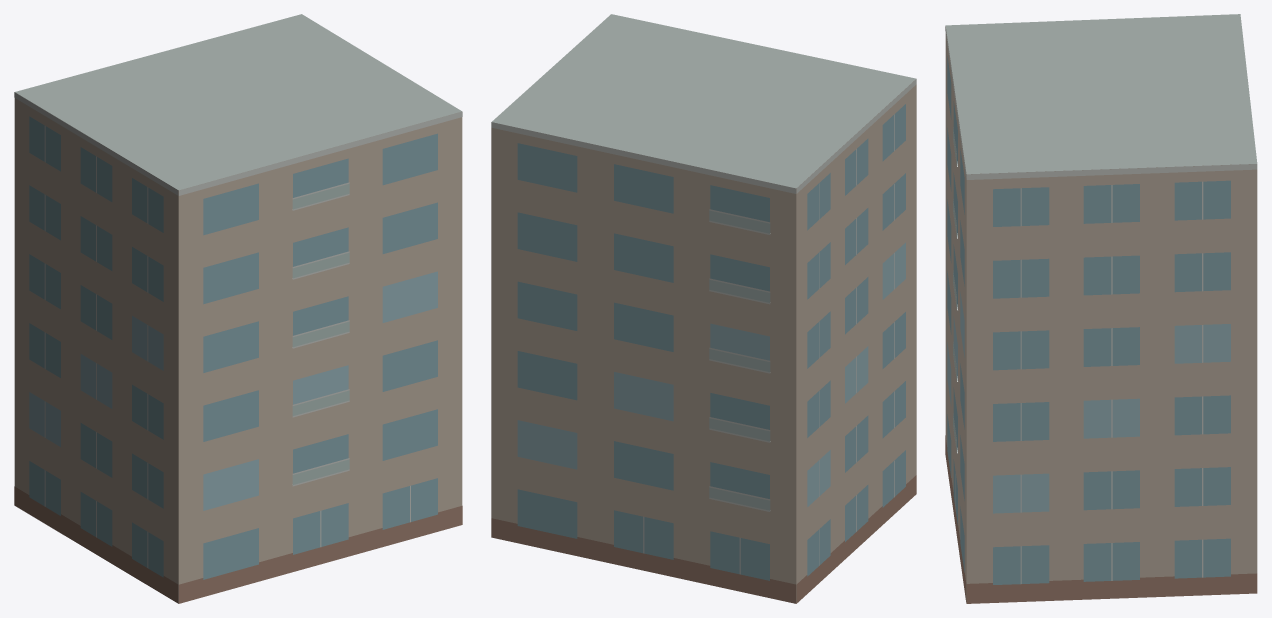
File: survey-upis-32909668.glb
3 views of the same model, side by side, from view 1: azimuth 30°, elevation 25°; view 2: azimuth 150°, elevation 25°; view 3: azimuth 270°, elevation 25° (orthographic). The views are drawn at different scales.
Parts seen in each view (by area): view 1: survey-upis-32909668.tmp; view 2: survey-upis-32909668.tmp; view 3: survey-upis-32909668.tmp.
Boxes of the visible parts, bbox=[...] form: survey-upis-32909668.tmp: bbox=[14, 14, 462, 603]; survey-upis-32909668.tmp: bbox=[491, 14, 916, 603]; survey-upis-32909668.tmp: bbox=[945, 14, 1257, 603].
Bounding box in the file's own units: 14.41 × 18 × 11.85.
